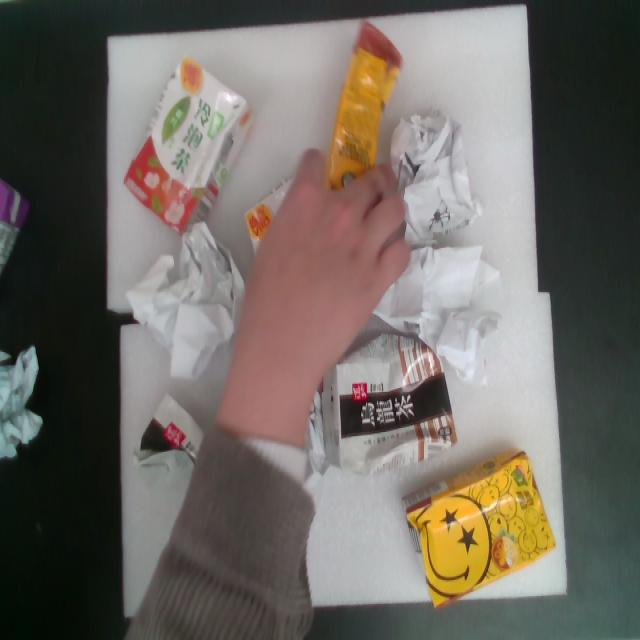juicebox: (373, 430, 587, 622), (93, 47, 276, 252), (295, 315, 470, 492)
paper: (352, 221, 540, 398), (110, 193, 276, 393), (366, 87, 509, 258)
